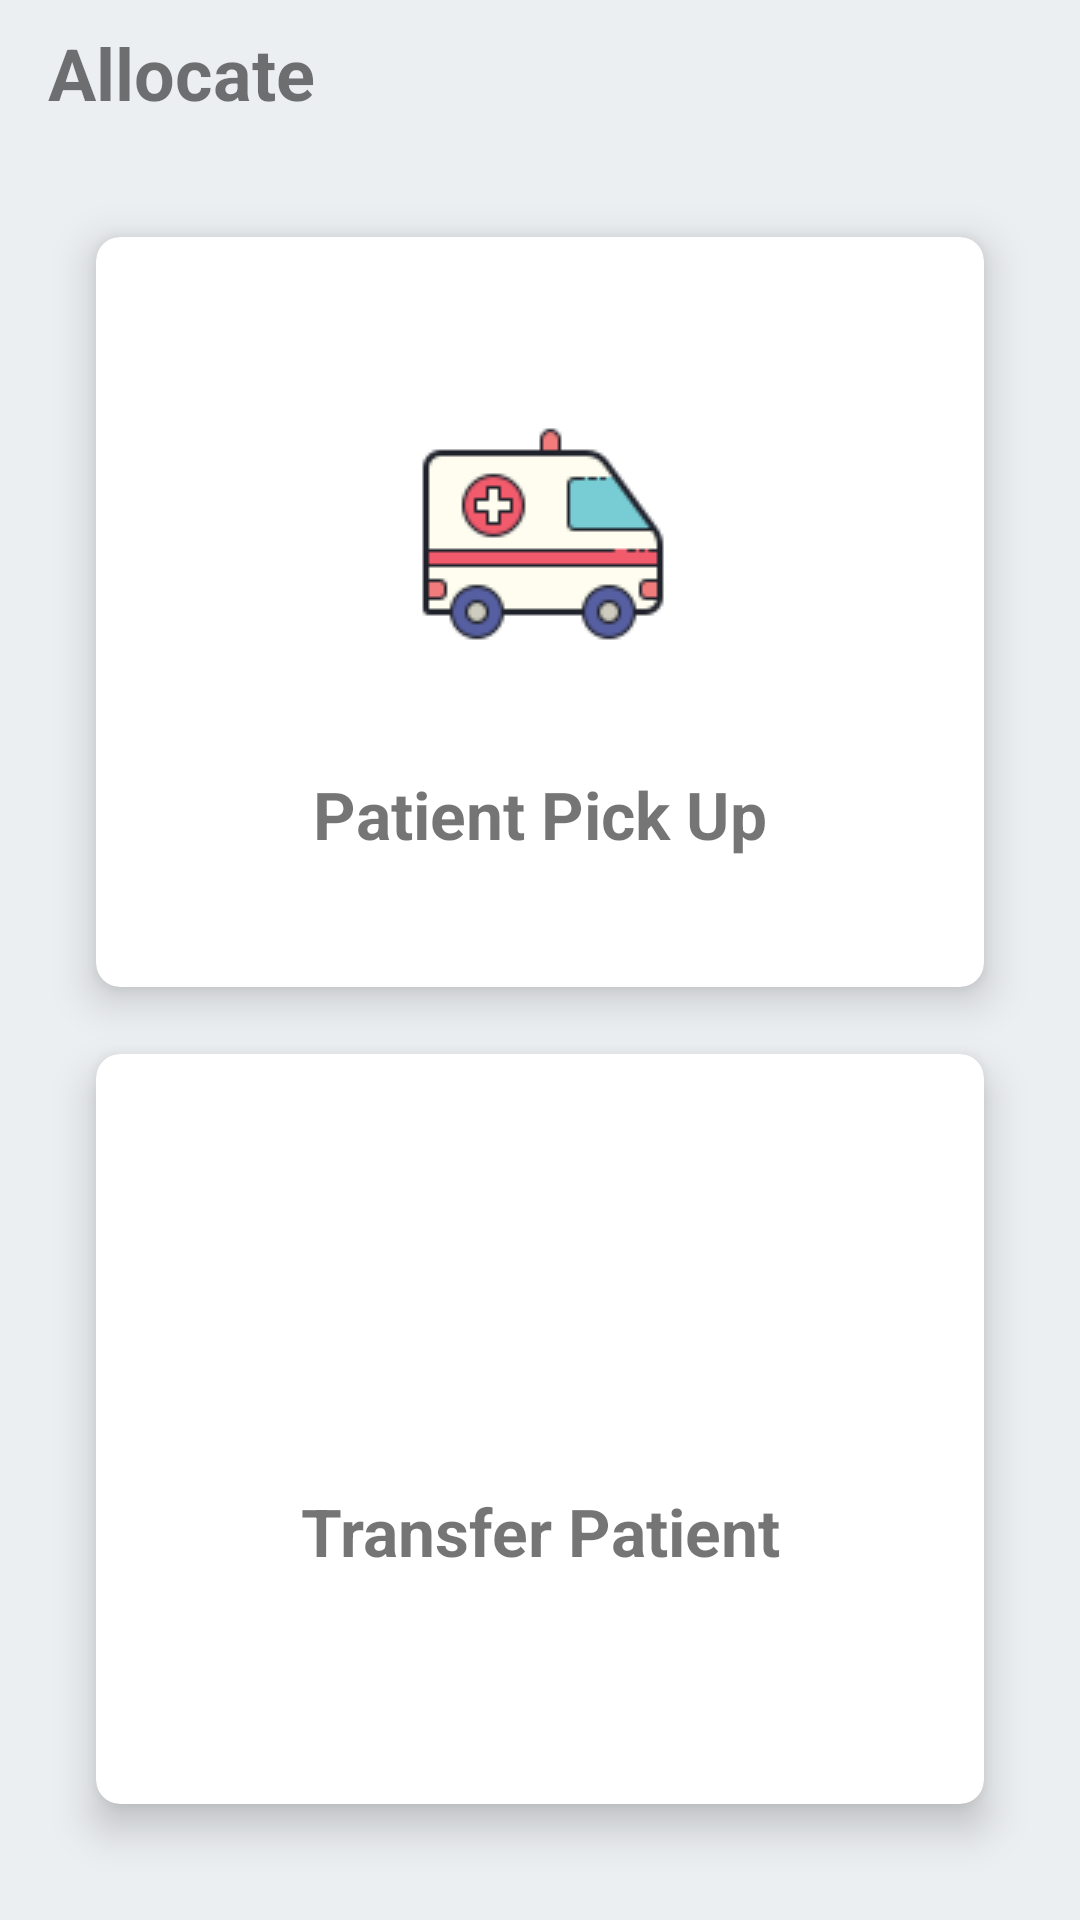

Named icons in this screenshot (1080 × 1920) and their bounding boxes, (x1, y1, x2, y2):
ambulance: (422, 428, 664, 640)
